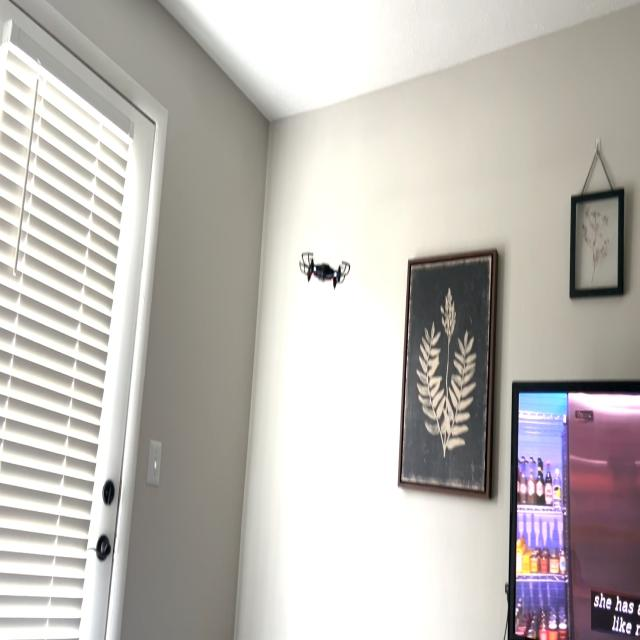drone: (288, 234, 359, 311)
